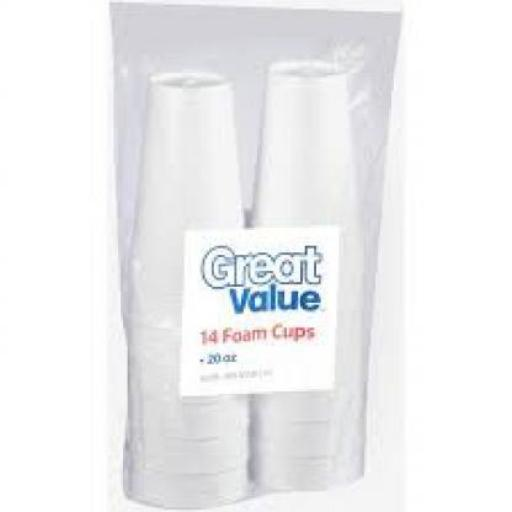paper: (125, 68, 248, 508), (250, 59, 362, 487)
